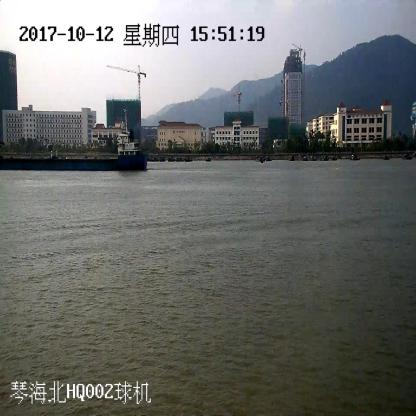Bulk Carrier: (0, 122, 147, 170)
